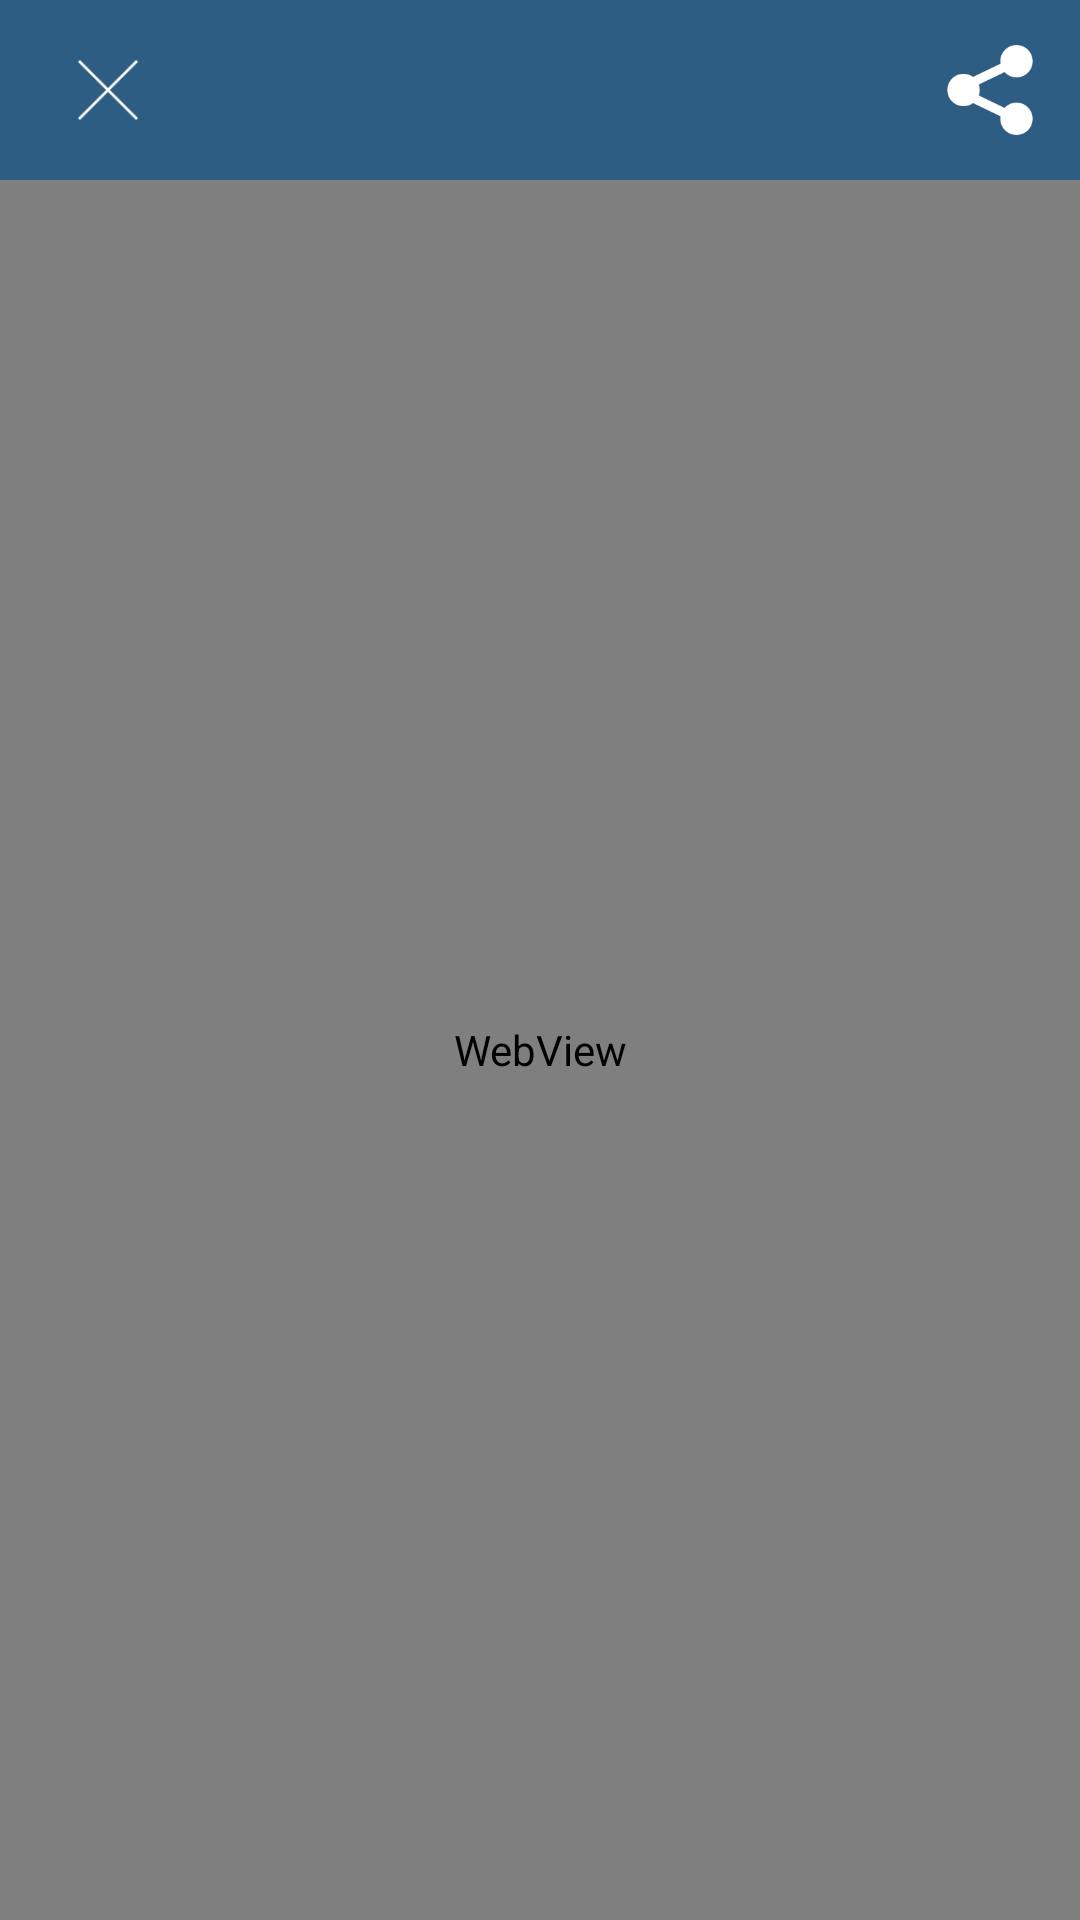

Icon click points for this 1080px×1920px phone screenshot, format (x=x, y=y):
close page: (x=108, y=90)
share: (x=990, y=90)
